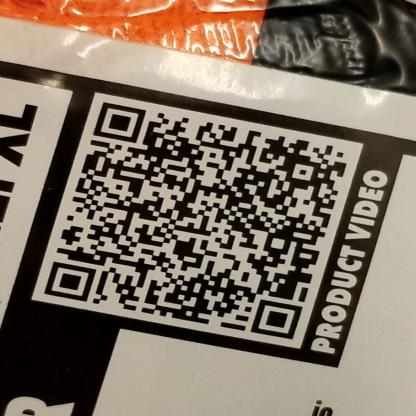qr: (43, 98, 351, 351)
